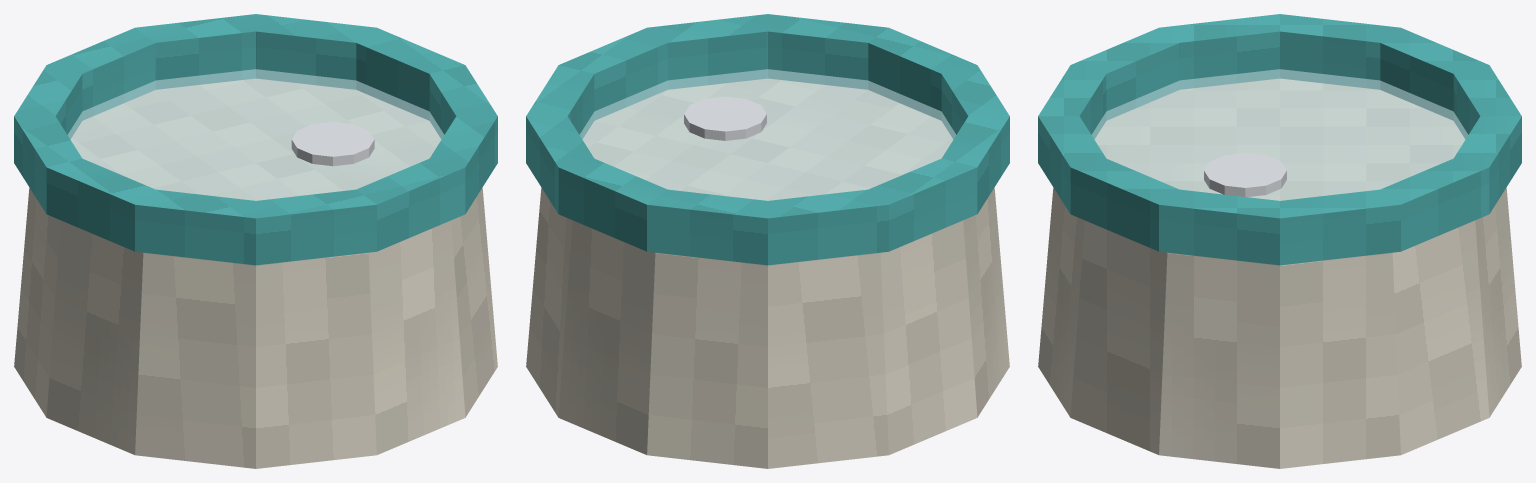
Rendered from retro-arcade-and-mall-1989-coin-fountain-05c694df__15519.glb.
3 views of the same model, side by side, from view 1: azimuth 30°, elevation 25°; view 2: azimuth 150°, elevation 25°; view 3: azimuth 270°, elevation 25° (orthographic).
Parts seen in each view (by area): view 1: coin-fountain; view 2: coin-fountain; view 3: coin-fountain.
Part boxes in pixels (x1,y1,x2,y2): coin-fountain: [14, 14, 497, 468]; coin-fountain: [526, 14, 1009, 468]; coin-fountain: [1038, 14, 1521, 468].
Size of the model in its own units: 1.4 by 0.8 by 1.4.
4 materials, 2 textured.
